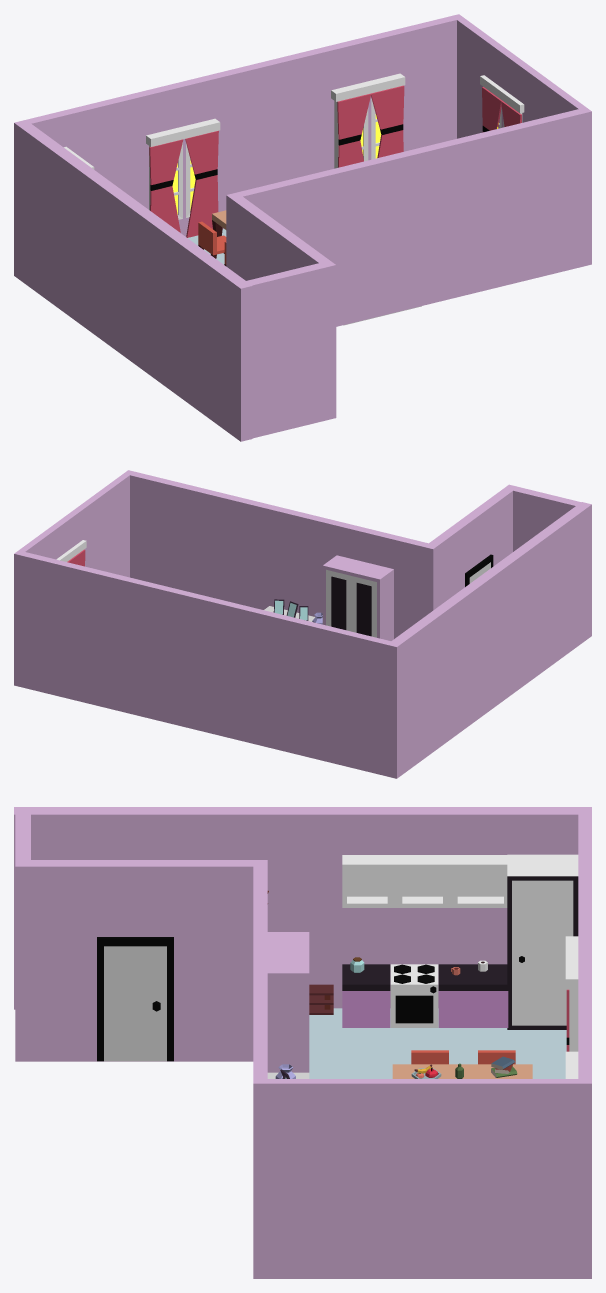
The model's file is LivingRoom Friends House.fbx.
3 renders of one model, top to bottom at view 1: azimuth 30°, elevation 25°; view 2: azimuth 150°, elevation 25°; view 3: azimuth 270°, elevation 25°, orthographic. The views are drawn at different scales.
Parts seen in each view (by area): view 1: Walls, Plane.002, Plane.001, Plane.003, Plane.004, Cube.012, Cube.009, Cube.007, Cube.016, Plane.005, Chair, Cube.020; view 2: Walls, Cube.049, Cube.050, Cube.051, Cylinder.003; view 3: Walls, Cube.046, Plane, Cylinder.003, Cube.047, Cube.049, Cube.045, Cube.030, Cube.044, Table, Cube.061, Cube.007 (+1 smaller).
Part boxes in pixels (<box>): Walls: <box>14,14,591,441</box>; Plane.002: <box>185,130,218,237</box>; Plane.001: <box>149,139,183,232</box>; Plane.003: <box>371,85,404,157</box>; Plane.004: <box>337,93,371,167</box>; Cube.012: <box>149,139,194,219</box>; Cube.009: <box>331,73,405,101</box>; Cube.007: <box>146,118,220,146</box>; Cube.016: <box>334,98,379,168</box>; Plane.005: <box>482,87,502,132</box>; Chair: <box>198,221,226,258</box>; Cube.020: <box>480,75,524,113</box>; Walls: <box>14,470,591,778</box>; Cube.049: <box>322,555,393,640</box>; Cube.050: <box>326,569,351,631</box>; Cube.051: <box>351,576,376,637</box>; Cylinder.003: <box>465,554,493,586</box>; Walls: <box>14,807,591,1278</box>; Cube.046: <box>507,854,578,1029</box>; Plane: <box>309,1008,566,1078</box>; Cylinder.003: <box>97,937,173,1061</box>; Cube.047: <box>342,855,507,907</box>; Cube.049: <box>267,932,309,1072</box>; Cube.045: <box>438,964,508,1027</box>; Cube.030: <box>342,964,390,1027</box>; Cube.044: <box>390,964,438,1027</box>; Table: <box>392,1064,532,1078</box>; Cube.061: <box>309,984,333,1014</box>; Cube.007: <box>565,936,578,989</box>.
Size of the model in its own units: 2827 by 942 by 2496.
